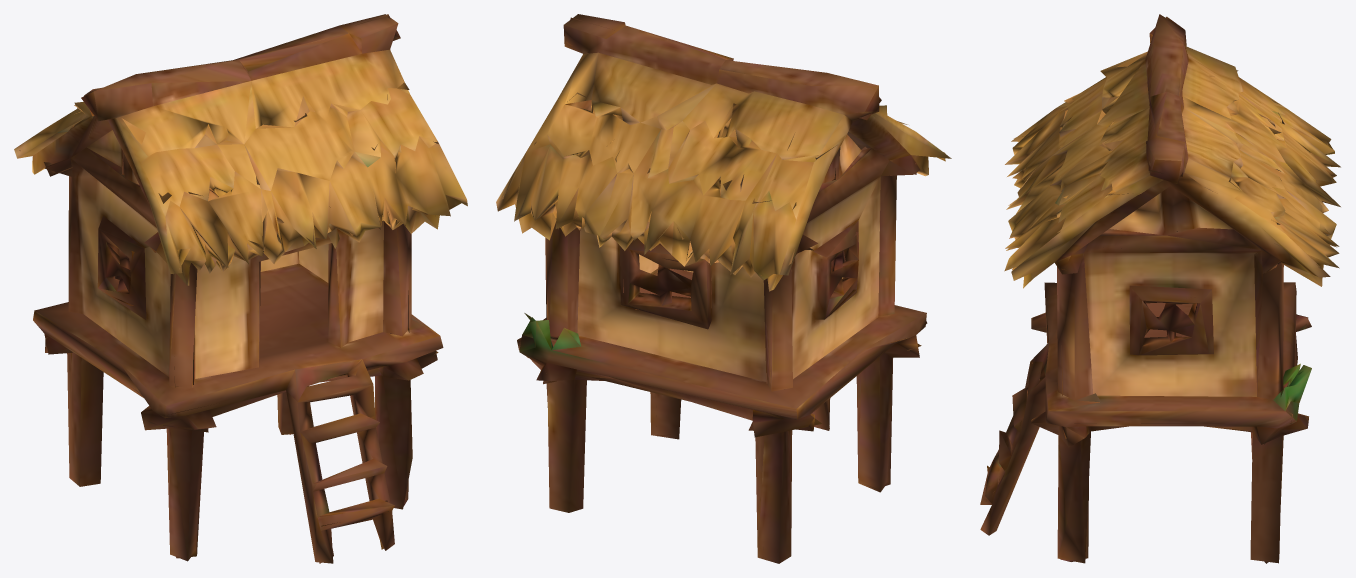
File: lg-swamp-hut.glb
3 renders of one model, left to right at view 1: azimuth 30°, elevation 25°; view 2: azimuth 150°, elevation 25°; view 3: azimuth 270°, elevation 25°, orthographic. The views are drawn at different scales.
Parts seen in each view (by area): view 1: geometry_0; view 2: geometry_0; view 3: geometry_0.
Part boxes in pixels (x1=…): geometry_0: x1=14, y1=14, x2=467, y2=563; geometry_0: x1=496, y1=14, x2=951, y2=563; geometry_0: x1=980, y1=14, x2=1340, y2=563.
Bounding box in the file's own units: 0.7179 × 1 × 0.7688.
1 material, 1 textured.
